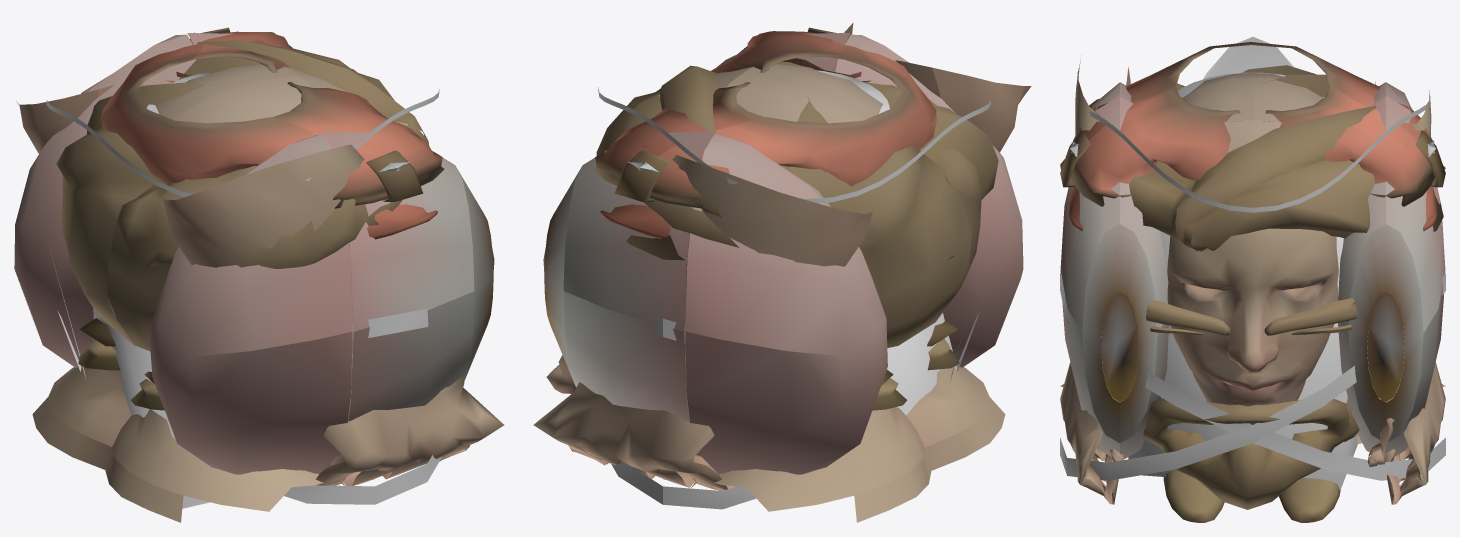
3 views of the same model, side by side, from view 1: azimuth 30°, elevation 25°; view 2: azimuth 150°, elevation 25°; view 3: azimuth 270°, elevation 25° (orthographic). The views are drawn at different scales.
Parts seen in each view (by area): view 1: tex:eye, tex:hair1, tex:hands, tex:peasant, tex:skin, white, black; view 2: tex:eye, tex:hair1, tex:peasant, tex:hands, tex:skin, white, black; view 3: tex:eye, tex:hair1, tex:skin, tex:peasant, white, tex:hands, black.
Boxes of the visible parts, x1=… form: tex:eye: x1=14, y1=33, x2=494, y2=474; tex:hair1: x1=56, y1=40, x2=429, y2=351; tex:hands: x1=16, y1=32, x2=504, y2=485; tex:peasant: x1=78, y1=27, x2=444, y2=410; tex:skin: x1=32, y1=64, x2=344, y2=522; white: x1=46, y1=89, x2=446, y2=504; black: x1=50, y1=72, x2=213, y2=508; tex:eye: x1=543, y1=33, x2=1023, y2=486; tex:hair1: x1=596, y1=52, x2=998, y2=347; tex:peasant: x1=593, y1=27, x2=959, y2=410; tex:hands: x1=533, y1=23, x2=1031, y2=490; tex:skin: x1=714, y1=64, x2=1005, y2=522; white: x1=598, y1=87, x2=990, y2=509; black: x1=816, y1=70, x2=980, y2=415; tex:eye: x1=1060, y1=82, x2=1445, y2=459; tex:hair1: x1=1060, y1=65, x2=1445, y2=509; tex:skin: x1=1060, y1=73, x2=1445, y2=444; tex:peasant: x1=1060, y1=42, x2=1445, y2=522; white: x1=1060, y1=100, x2=1445, y2=480; tex:hands: x1=1060, y1=55, x2=1445, y2=504; black: x1=1128, y1=37, x2=1443, y2=489.
Size of the model in its own units: 65535 by 65535 by 65535.
